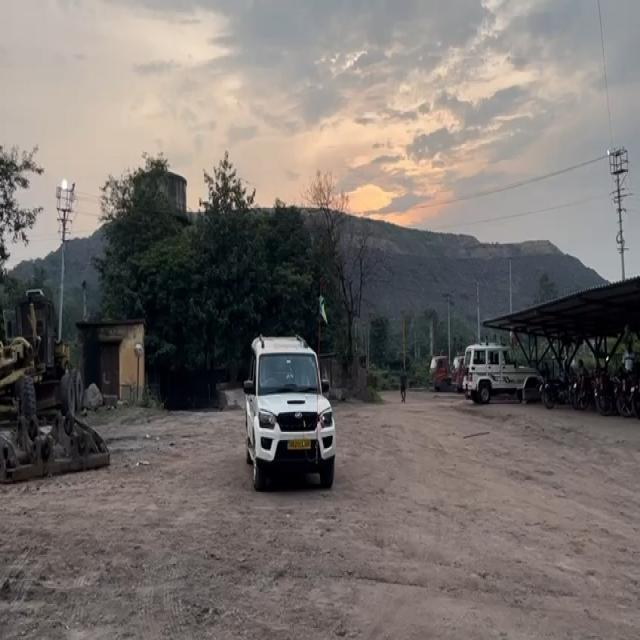light_vehicle: (246, 332, 338, 492), (459, 341, 538, 405)
